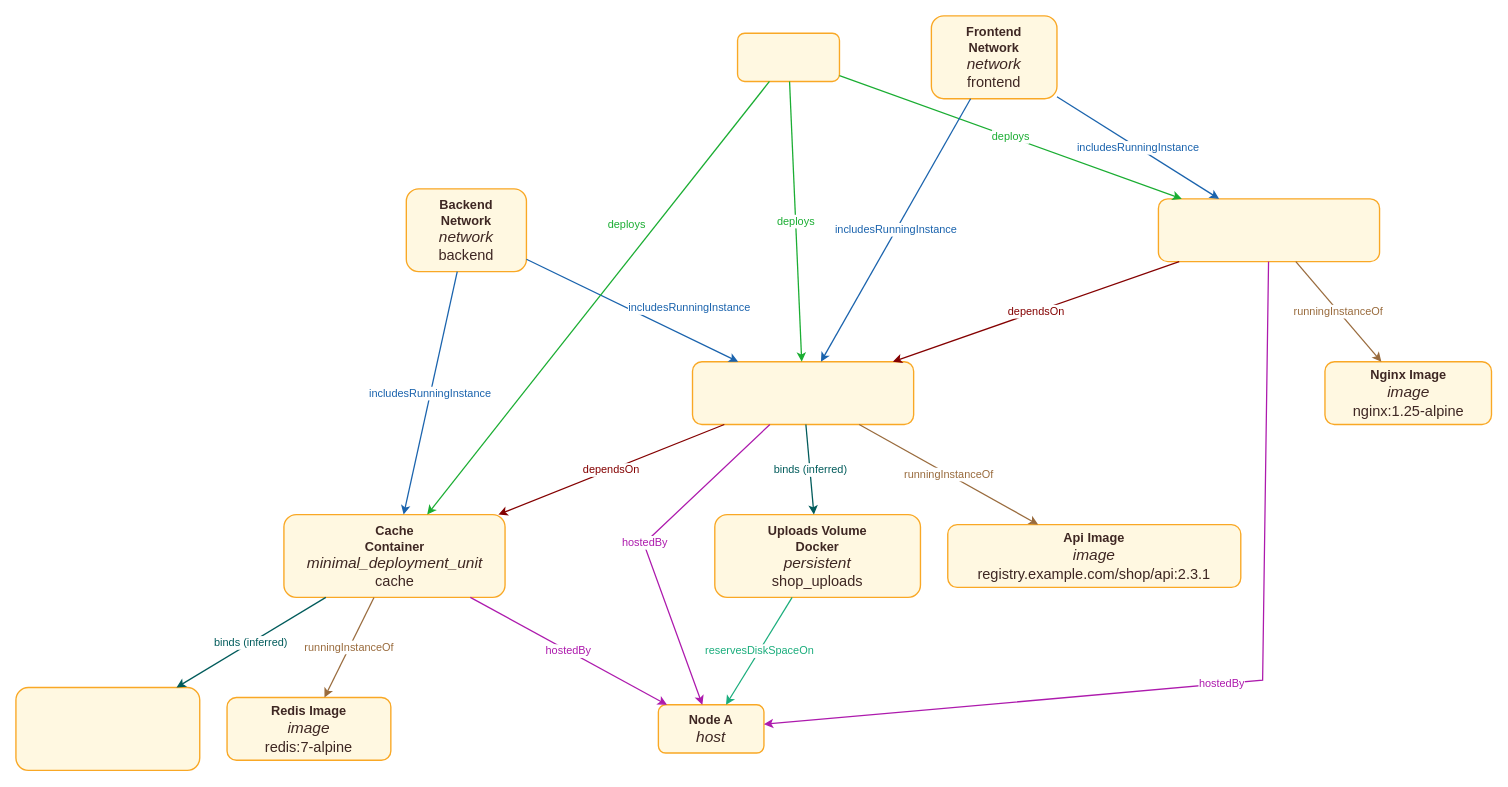
Image size: 1508x787. Some labels were removed from this diagram. The centre of each missing label's shape, as x and y in pixels:
"Api Container minimal_deployment_unit api" belongs at point 802,393.
"Cache Scratch Docker ephemeral cache_scratch" belongs at point 107,728.
"Docker platform" belongs at point 788,57.
"Edge Container minimal_deployment_unit edge" belongs at point 1268,230.
